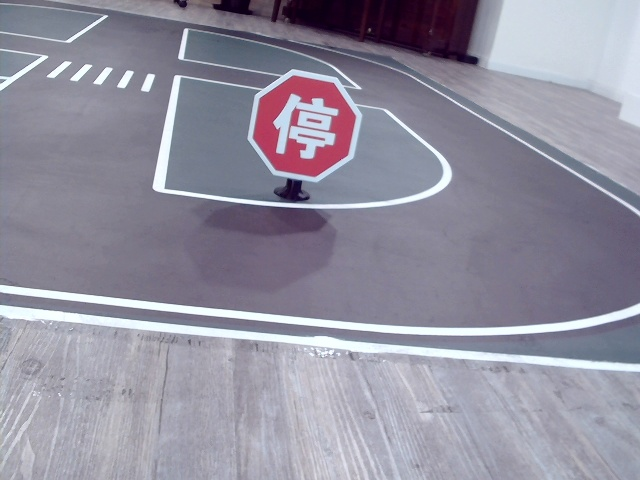stop: (270, 93, 339, 161)
